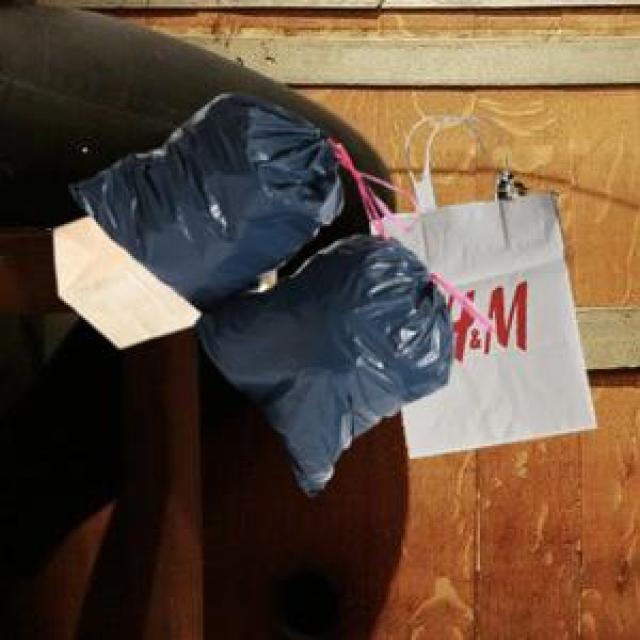miscellaneous trash: (66, 92, 491, 493)
paper: (367, 147, 591, 452), (49, 211, 271, 344)
